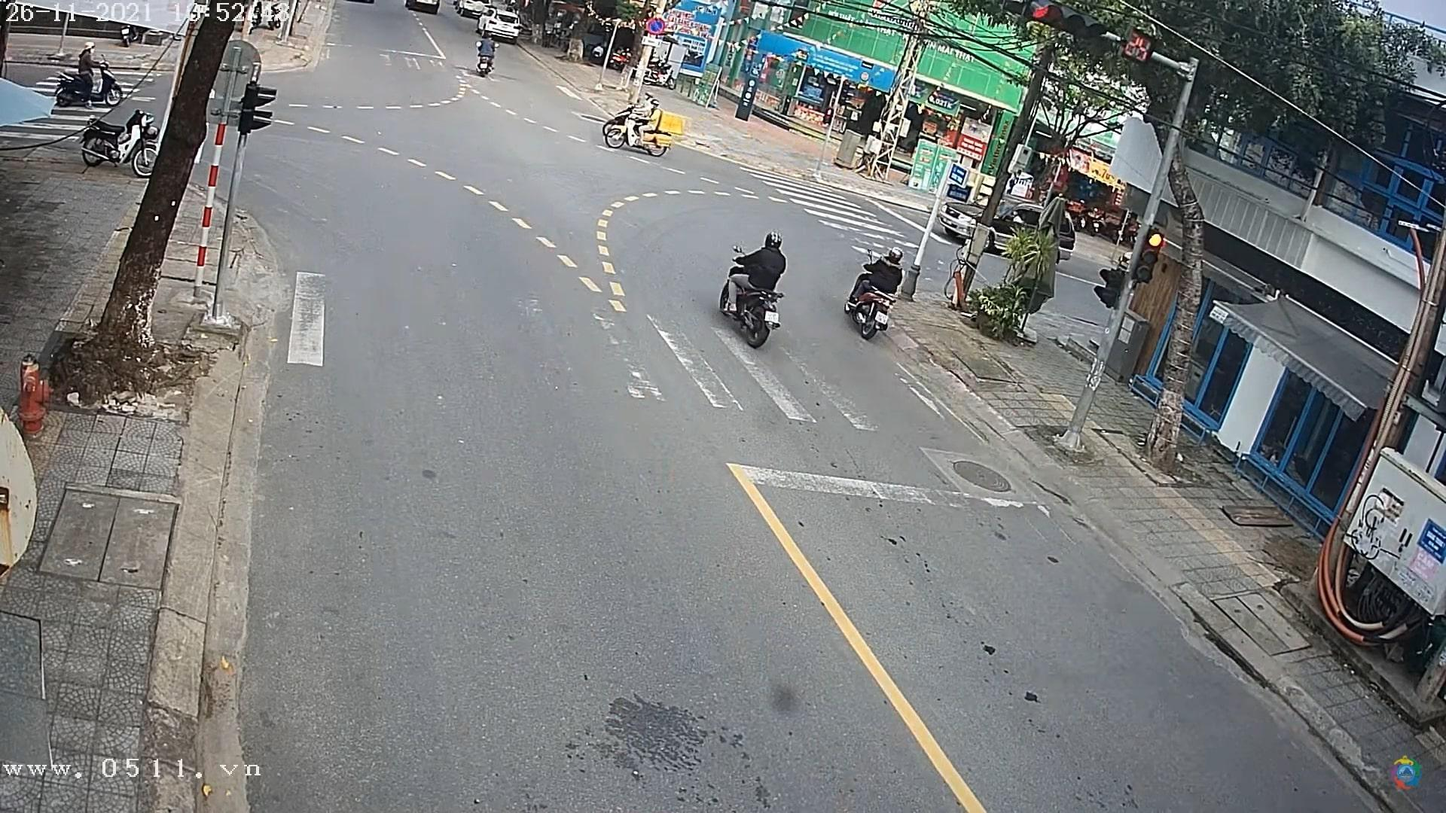motorbike: (718, 278, 782, 349), (599, 102, 678, 158), (50, 69, 127, 111), (849, 283, 899, 342)
